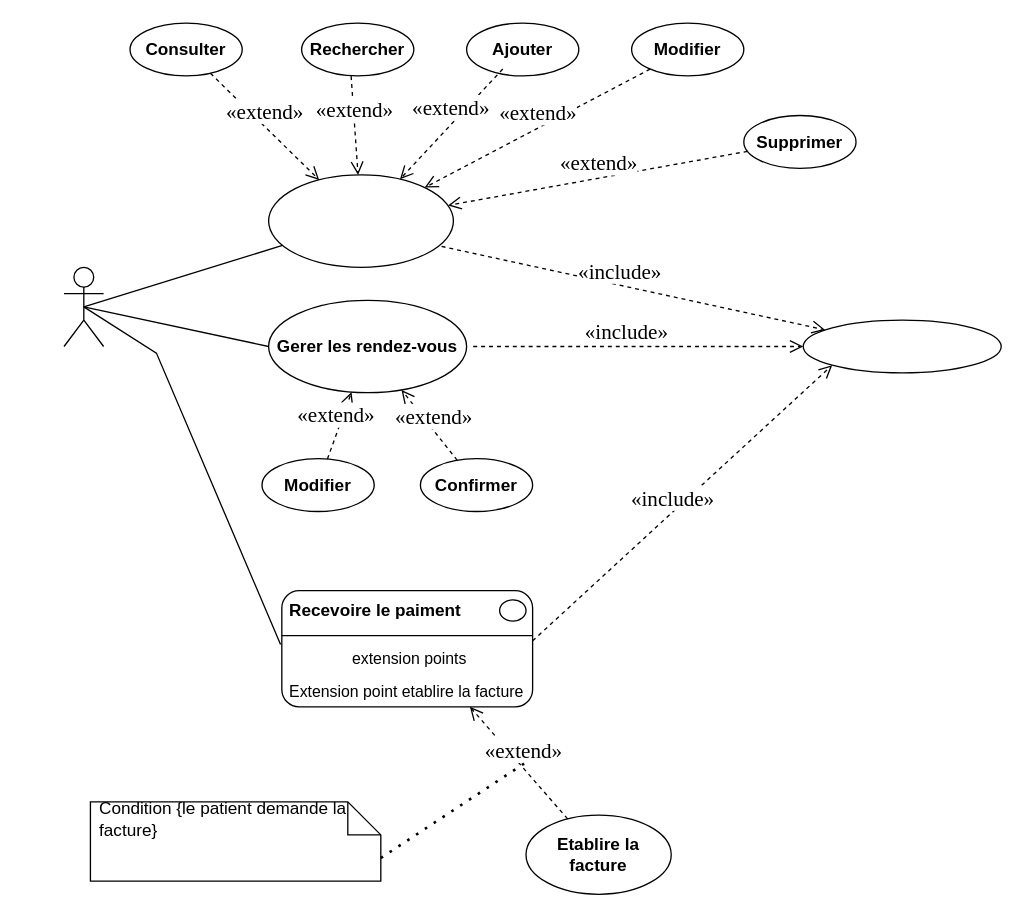
The diagram is 1024 pixels wide and 917 high, and some of its shapes have lost their labels. The shapes that lost their labels are listed below. From the top down, each one's centre as x and y in pixels, then its label:
At point 360,220: "Gerer les patients".
At point 83,306: "Receptionniste".
At point 901,346: "S'authentifie".
At point 235,841: "Extension point : etablire la facture".
